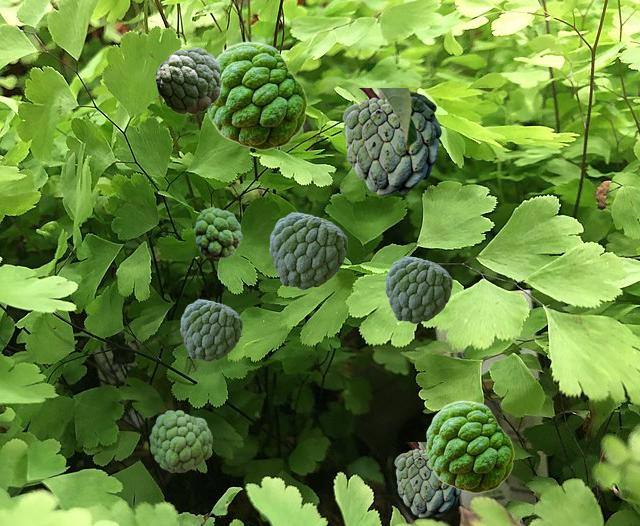atis: (342, 88, 493, 195), (207, 41, 306, 149), (426, 400, 513, 492), (269, 212, 346, 288), (394, 442, 461, 517), (385, 256, 451, 322), (155, 47, 220, 113), (149, 410, 211, 471), (180, 299, 241, 360), (194, 207, 241, 257)
